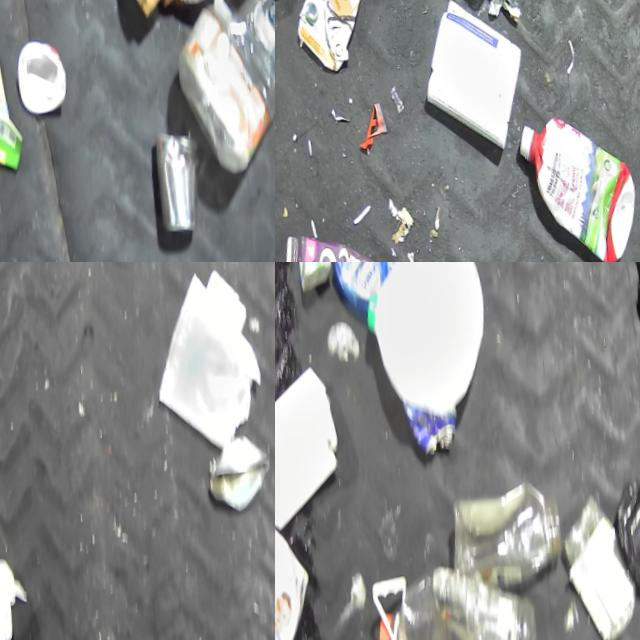can: (137, 128, 191, 244), (191, 438, 266, 517), (394, 401, 458, 462), (623, 262, 640, 334)
milk_jug: (351, 262, 494, 426)
non_white_jug: (156, 0, 275, 183), (505, 115, 635, 262), (351, 558, 539, 640), (284, 0, 372, 78), (323, 262, 396, 319)
